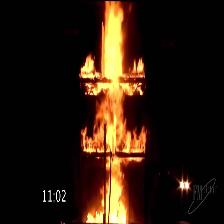fire: (80, 1, 146, 224)
